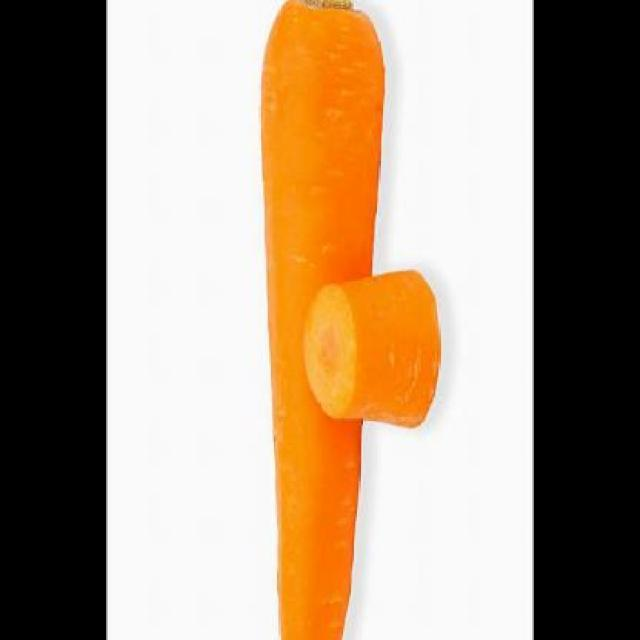carrot: (261, 0, 387, 638), (305, 267, 441, 428)
